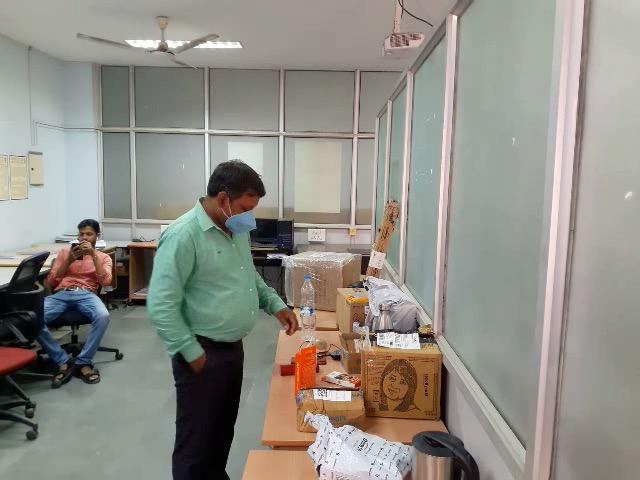Normal: (1, 3, 379, 480)
shoplifting: (119, 301, 304, 413)
